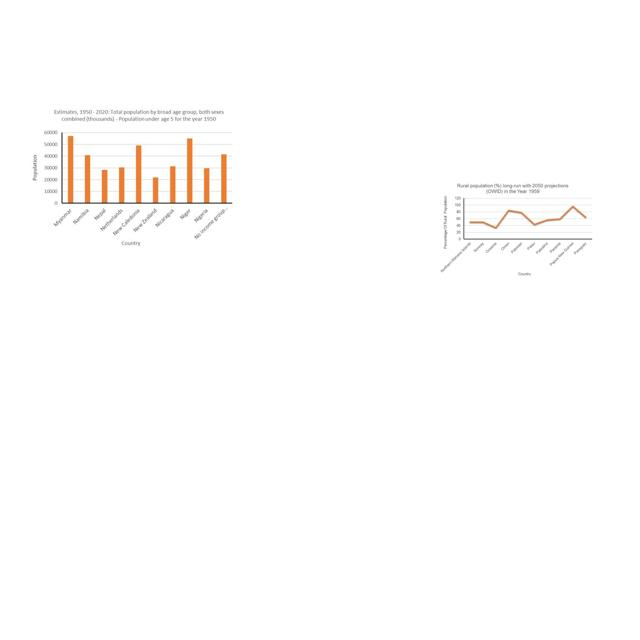Graph: (27, 108, 239, 249), (439, 180, 595, 278)
